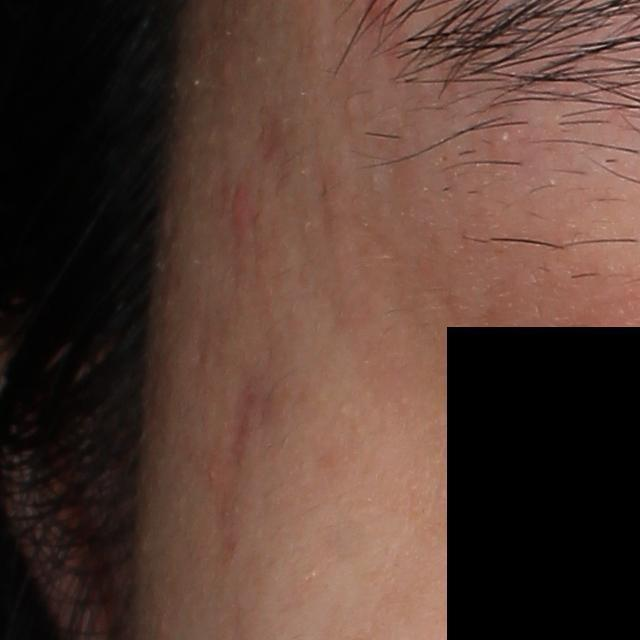papule: (228, 185, 250, 236)
